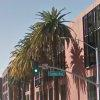Palm tree: (11, 6, 72, 64)
